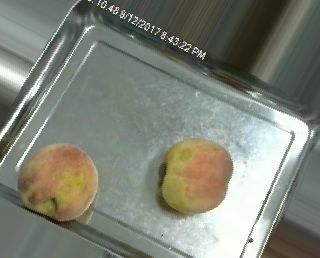Peach: (17, 142, 98, 221), (159, 138, 232, 213)
